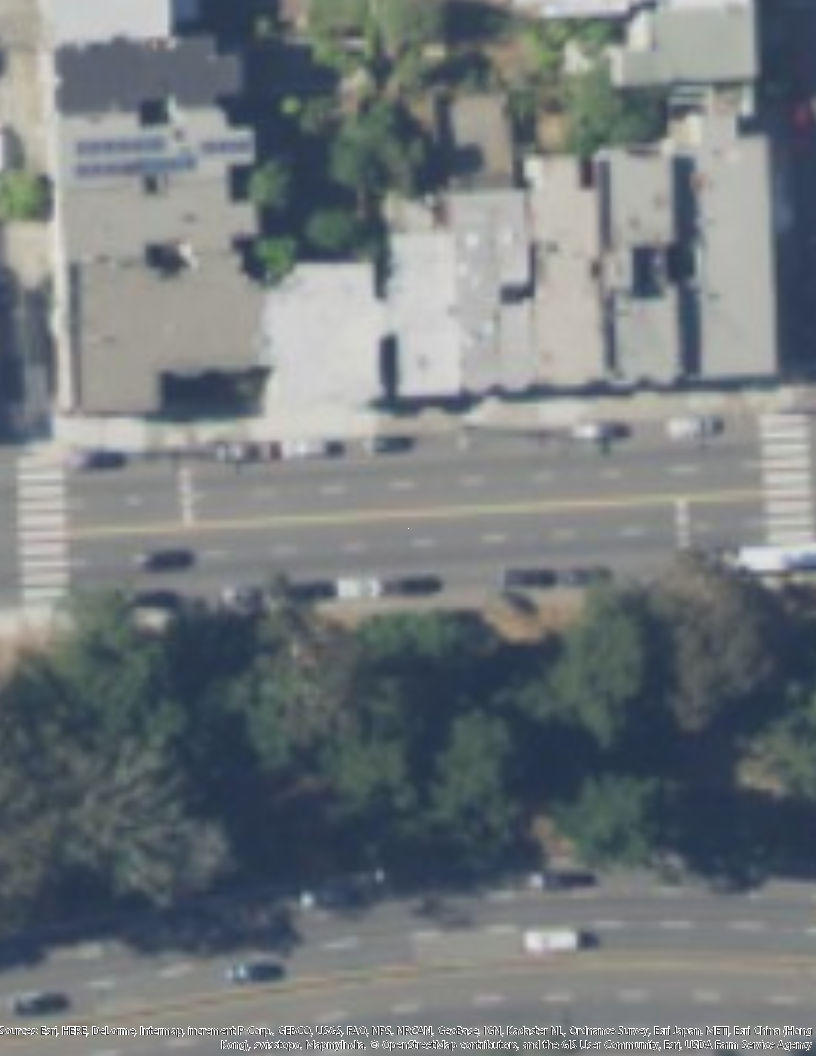zebracross: (756, 414, 816, 550), (14, 454, 67, 595)
